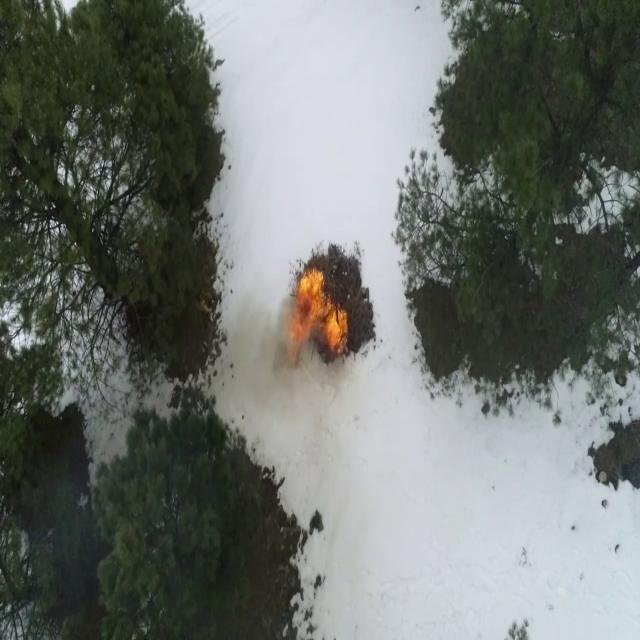fire: (290, 268, 322, 354), (324, 309, 348, 353)
